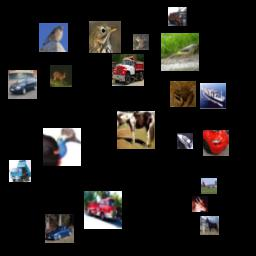airplane: (201, 178, 217, 194)
automobile: (8, 70, 37, 99), (45, 214, 74, 243), (203, 130, 229, 156)
bird: (43, 128, 81, 166), (161, 33, 199, 71), (89, 21, 121, 53), (39, 23, 68, 52)
deer: (50, 65, 72, 87), (192, 196, 208, 212)
frog: (170, 81, 196, 107), (133, 34, 149, 50)
ship: (200, 83, 226, 109), (177, 133, 193, 149)
truck: (84, 191, 122, 229), (112, 54, 144, 86), (9, 160, 31, 182), (168, 7, 187, 26)
